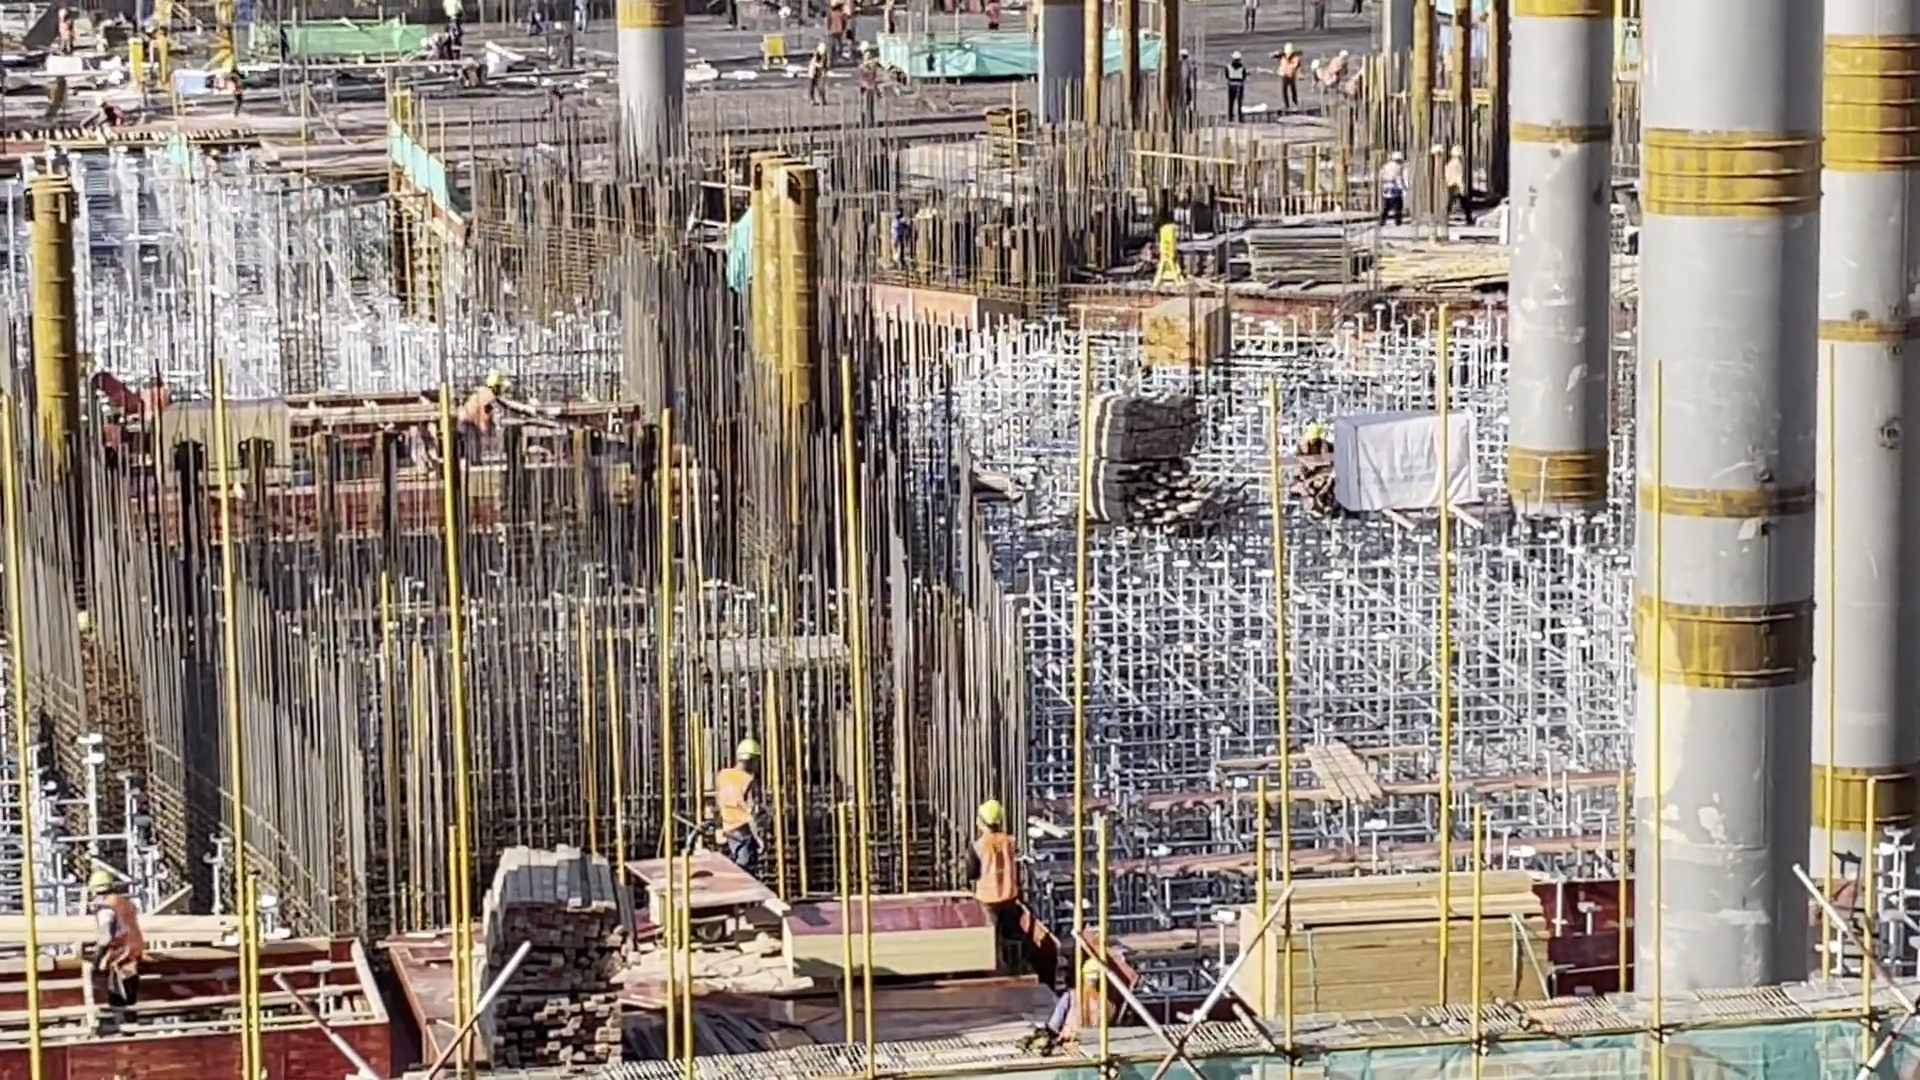helmet: (976, 797, 1008, 826), (736, 741, 762, 761), (89, 873, 115, 892), (486, 373, 505, 390), (1390, 151, 1408, 163), (1282, 42, 1297, 56), (1451, 145, 1465, 158), (1230, 52, 1244, 60)
person: (965, 797, 1023, 971), (713, 740, 770, 873), (86, 871, 142, 1004), (458, 366, 507, 451), (1443, 145, 1478, 227), (1375, 149, 1410, 228), (1268, 41, 1303, 111), (1223, 51, 1250, 123), (805, 43, 833, 108), (226, 56, 251, 121), (1310, 59, 1338, 99), (56, 7, 77, 55), (824, 1, 848, 39), (1238, 1, 1260, 36), (443, 1, 468, 31), (980, 1, 1002, 32), (1330, 48, 1350, 78), (1308, 1, 1328, 28), (1347, 1, 1369, 17)
vest: (971, 832, 1019, 905), (96, 897, 144, 962), (716, 768, 757, 835), (461, 386, 498, 433), (1382, 163, 1406, 199), (1279, 54, 1299, 81), (1226, 63, 1245, 87)
